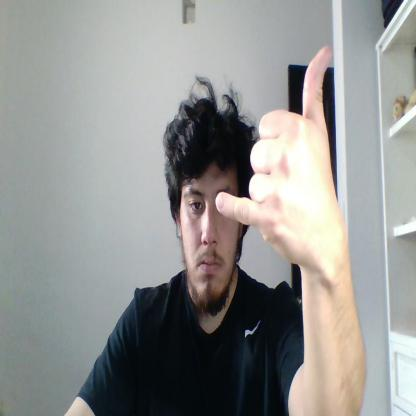Y: (215, 44, 342, 264)
